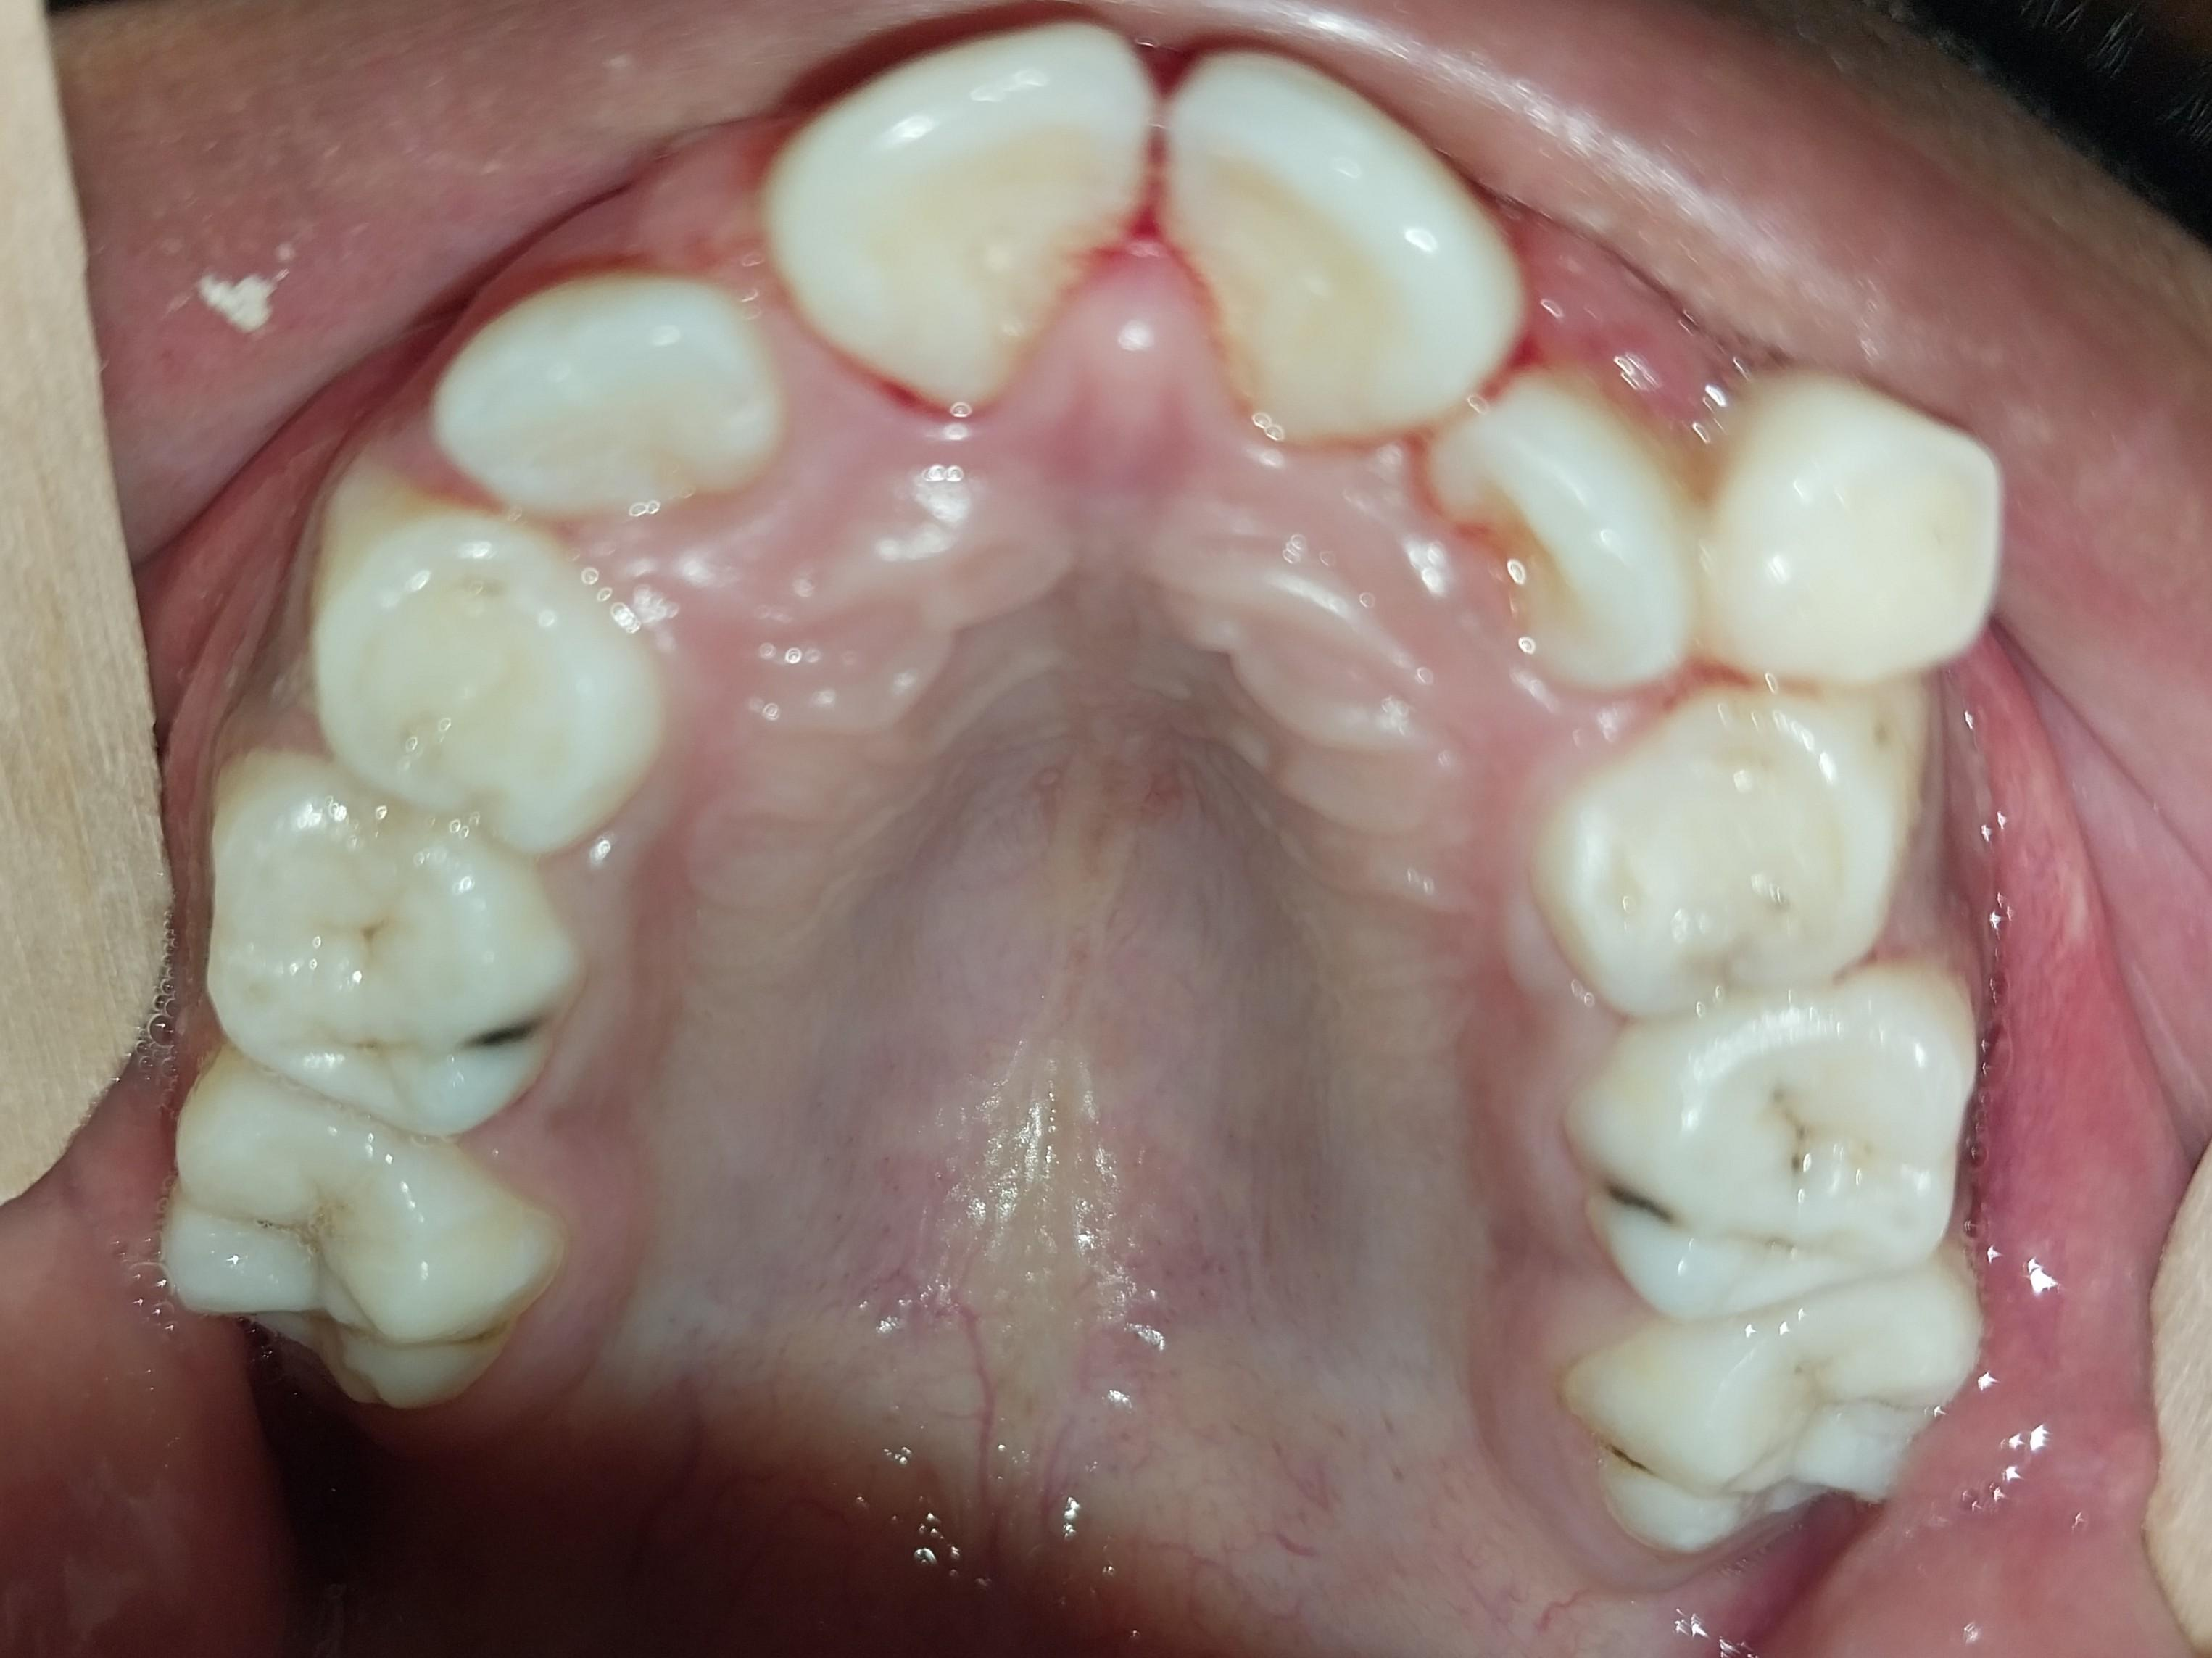d: (204, 774, 563, 1130), (1584, 1017, 1973, 1330), (1587, 1301, 1979, 1548)
